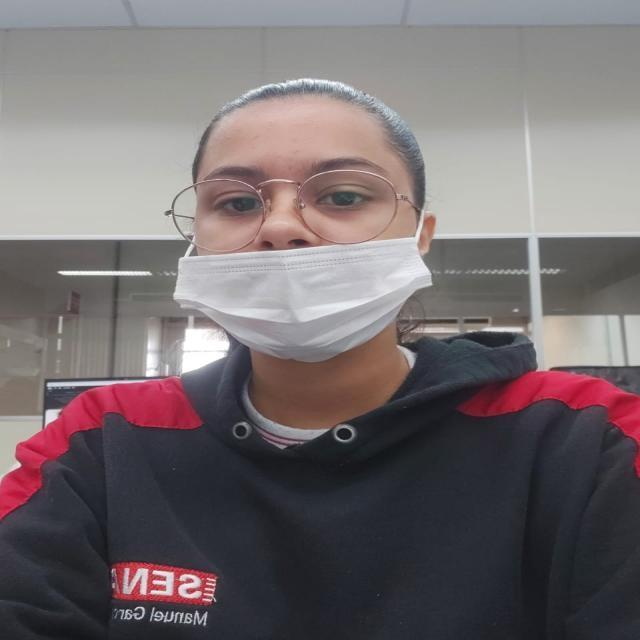hairnet: (172, 107, 416, 341)
